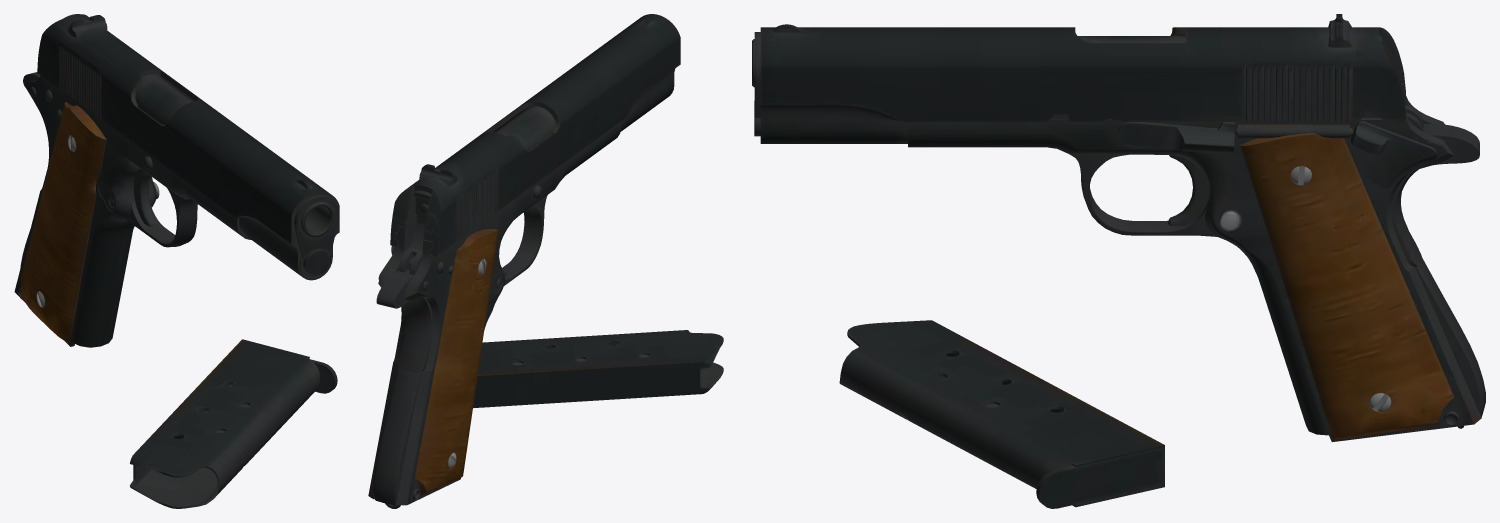
The model's file is gun-semiPistol.glb.
The picture shows the model from 3 angles, left to right: view 1: azimuth 30°, elevation 25°; view 2: azimuth 150°, elevation 25°; view 3: azimuth 270°, elevation 25°; orthographic projection. The views are drawn at different scales.
Parts seen in each view (by area): view 1: m_1911_base, m_1911_bolt_01, m_1911_mag; view 2: m_1911_base, m_1911_bolt_01, m_1911_mag, m_1911_bolt_02; view 3: m_1911_base, m_1911_bolt_01, m_1911_mag.
Part boxes in pixels (x1=…): m_1911_base: x1=14, y1=72, x2=334, y2=347; m_1911_bolt_01: x1=37, y1=14, x2=339, y2=280; m_1911_mag: x1=130, y1=339, x2=337, y2=508; m_1911_base: x1=368, y1=106, x2=620, y2=508; m_1911_bolt_01: x1=390, y1=14, x2=680, y2=256; m_1911_mag: x1=473, y1=330, x2=723, y2=408; m_1911_bolt_02: x1=398, y1=190, x2=431, y2=274; m_1911_base: x1=752, y1=36, x2=1485, y2=441; m_1911_bolt_01: x1=754, y1=14, x2=1405, y2=143; m_1911_mag: x1=839, y1=320, x2=1164, y2=508.
Size of the model in its own units: 0.253 by 0.3109 by 0.5015.
1 material, 1 textured.
